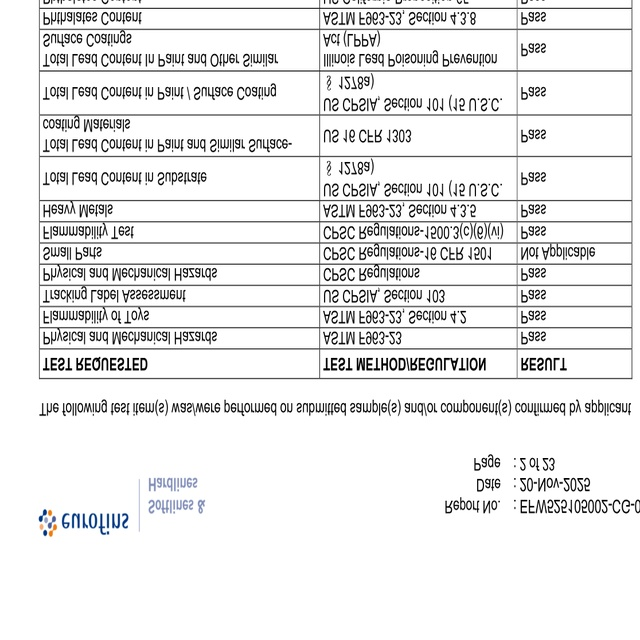eurofins: (34, 503, 132, 541)
